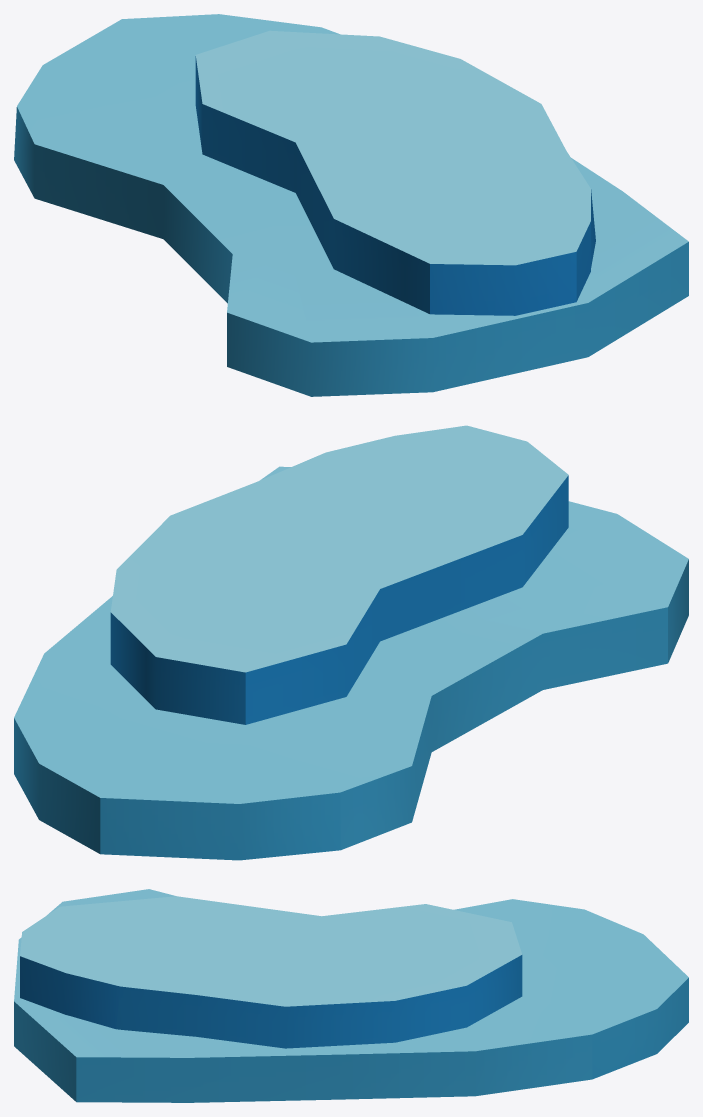
File: SM_IP_Hill_01.fbx
3 views of the same model, one above another, from view 1: azimuth 30°, elevation 25°; view 2: azimuth 150°, elevation 25°; view 3: azimuth 270°, elevation 25° (orthographic). The views are drawn at different scales.
Visible parts, largest first — view 1: pCube447; view 2: pCube447; view 3: pCube447.
Boxes of the visible parts, box(x1,y1,x2,y2) form: pCube447: box(14, 14, 688, 396); pCube447: box(14, 425, 688, 860); pCube447: box(14, 889, 688, 1102).
Size of the model in its own units: 162 by 38.99 by 272.
